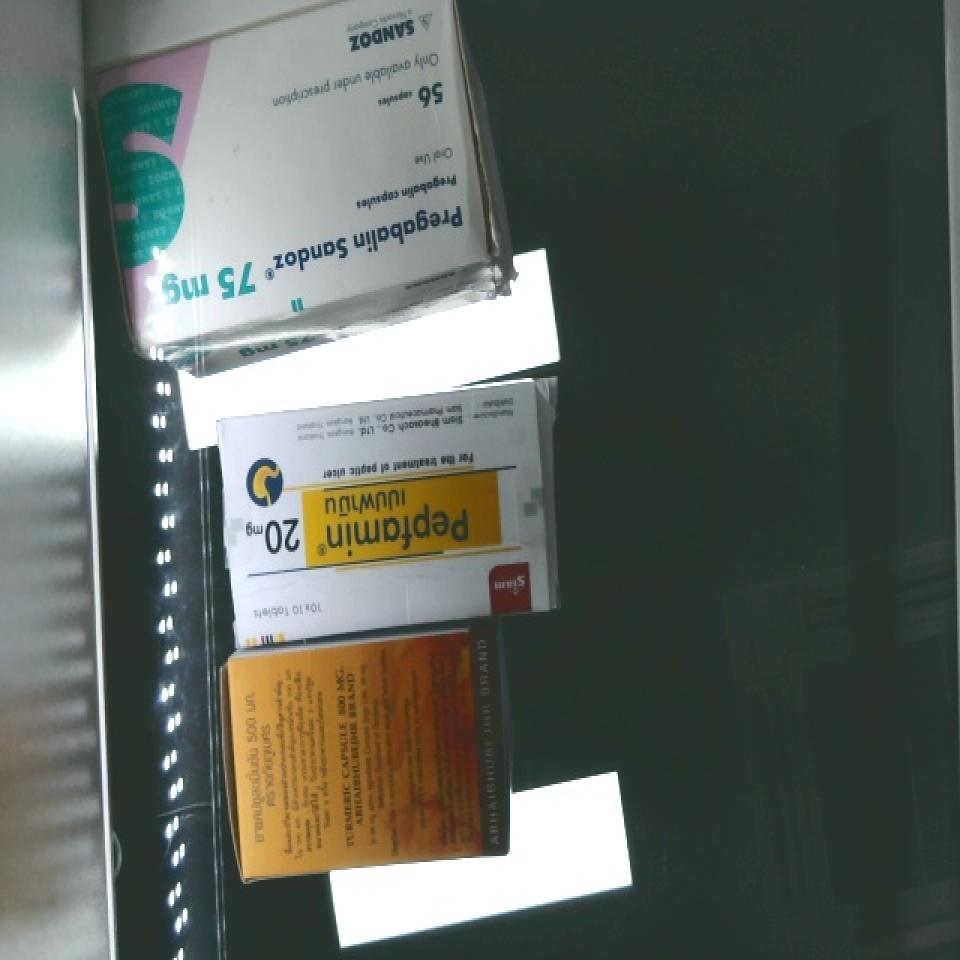medicine_box: (69, 0, 510, 353), (213, 388, 562, 644), (216, 623, 520, 880)
medicine_label_obb: (143, 177, 487, 340), (236, 465, 509, 579)
